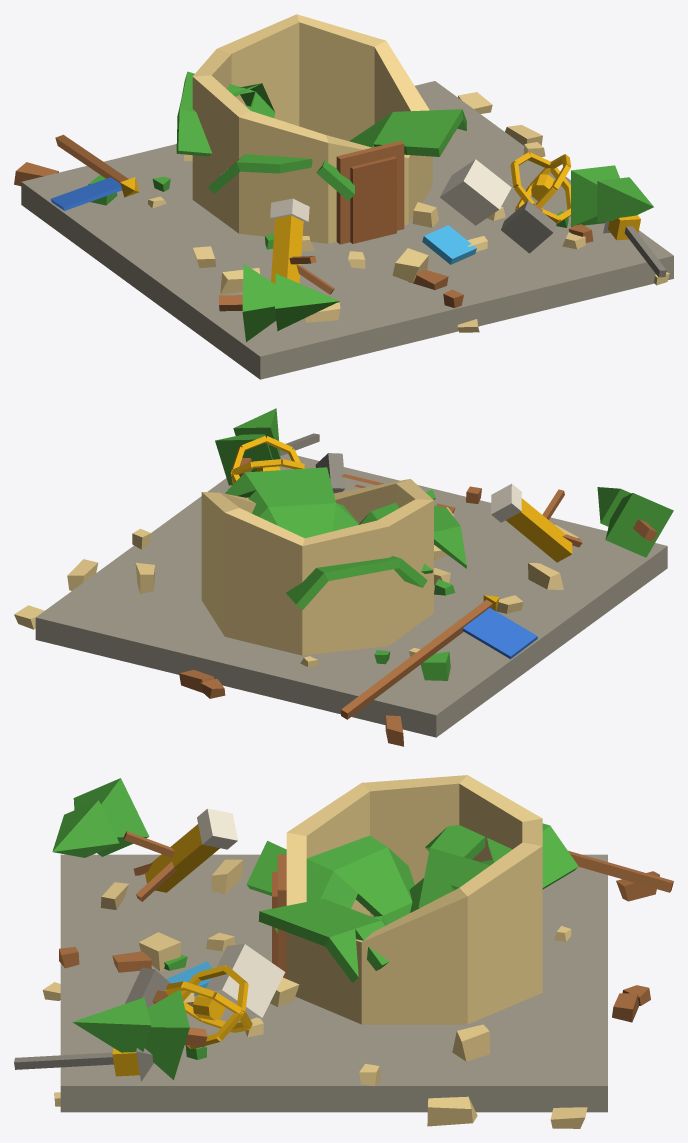
File: observatory_t2_v2_dmg2.glb
3 views of the same model, one above another, from view 1: azimuth 30°, elevation 25°; view 2: azimuth 150°, elevation 25°; view 3: azimuth 270°, elevation 25° (orthographic). The views are drawn at different scales.
Parts seen in each view (by area): view 1: observatory_t2_v2_dmg2; view 2: observatory_t2_v2_dmg2; view 3: observatory_t2_v2_dmg2.
Part boxes in pixels (left/top/right/bottom): observatory_t2_v2_dmg2: left=14, top=14, right=673, bottom=379; observatory_t2_v2_dmg2: left=14, top=408, right=673, bottom=746; observatory_t2_v2_dmg2: left=14, top=775, right=673, bottom=1128.
Size of the model in its own units: 0.8656 by 0.262 by 0.9048.
Materials: 1 (1 with a texture image).
